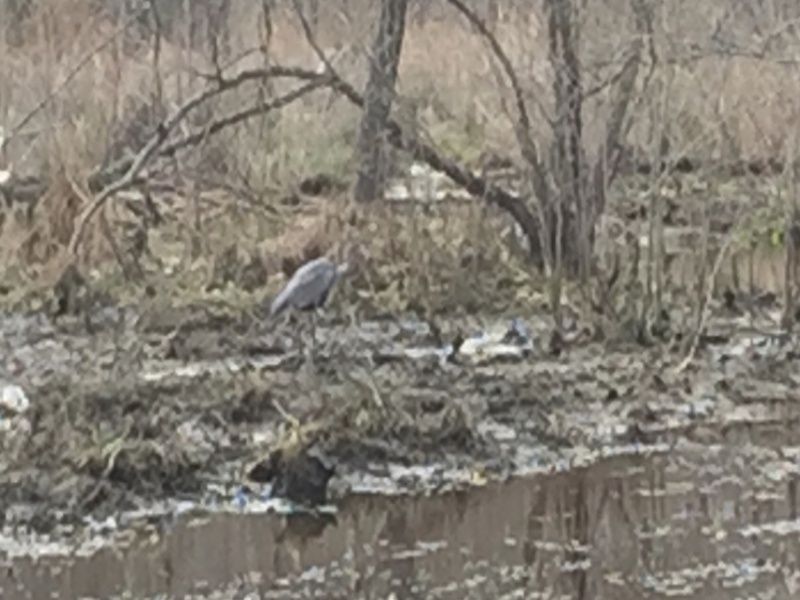heron: (265, 244, 369, 362)
